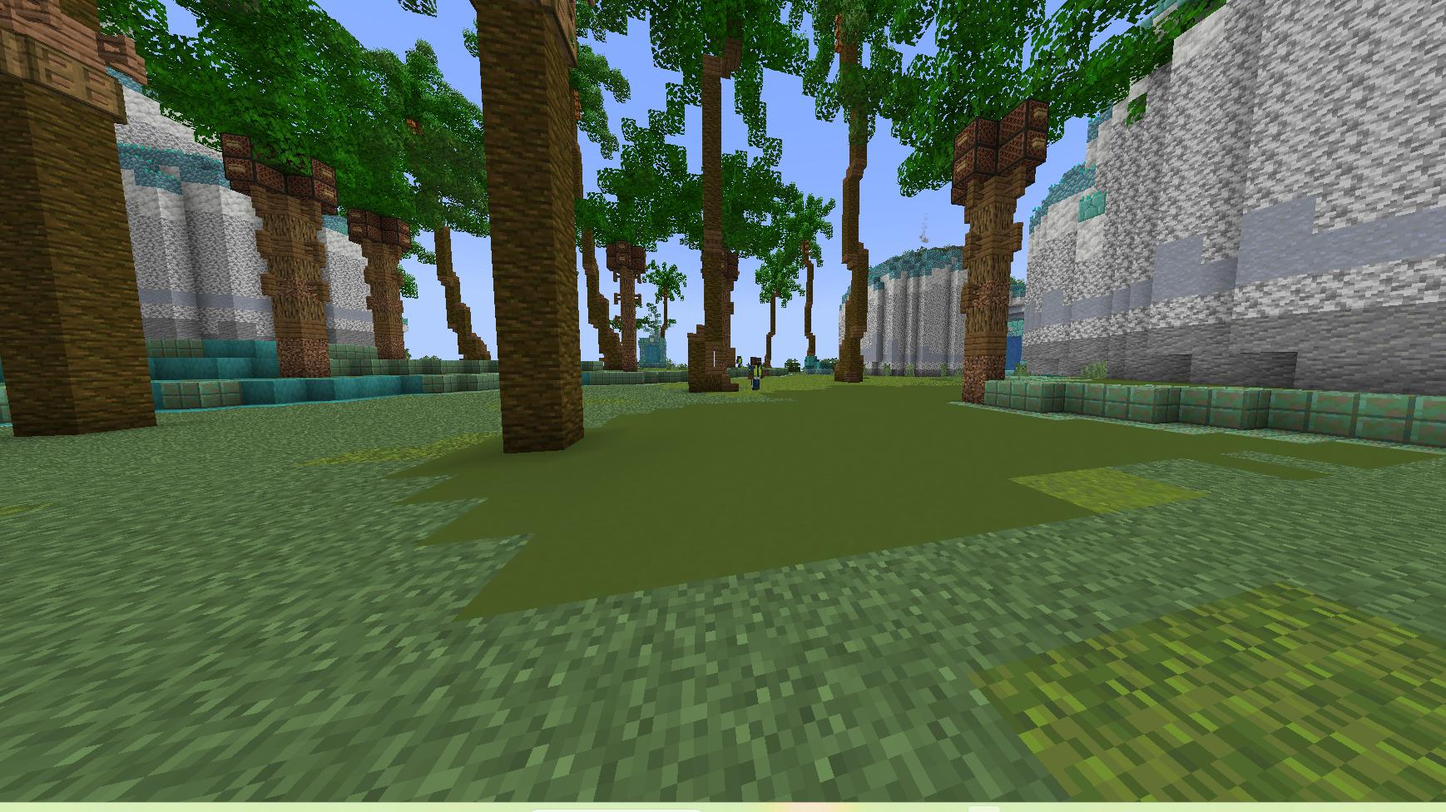Guardian: (748, 357, 768, 390)
